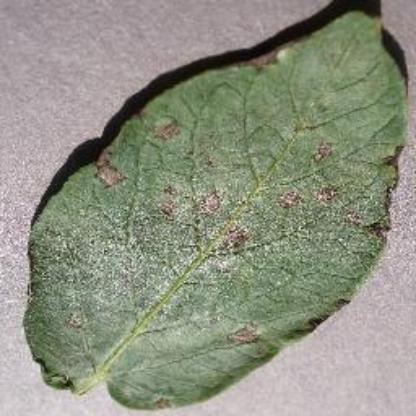Early-Blight: (22, 9, 404, 409)
